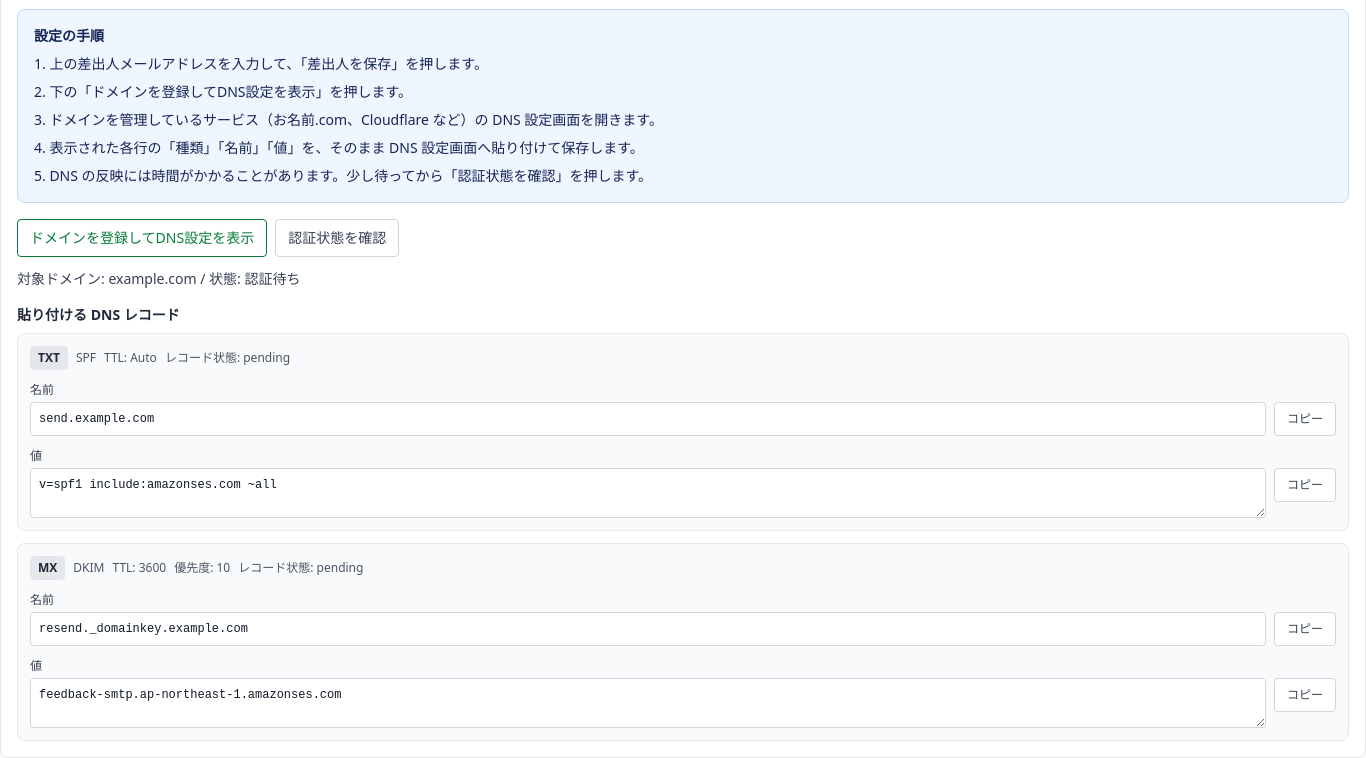
Test case: EmailSenderSettingsPanel › Clipboard APIが無い環境でもfallbackでDNS値を実コピーする
This screenshot has width=1366, height=758.
(page scrolled)
Expected: the field showing "send.example.com" below "TXT" is shown, [30,402,1266,436]
Click the button with aria-label "SPF の名前をコピー" at [1305, 419], box [1274,402,1336,436]
(page scrolled)
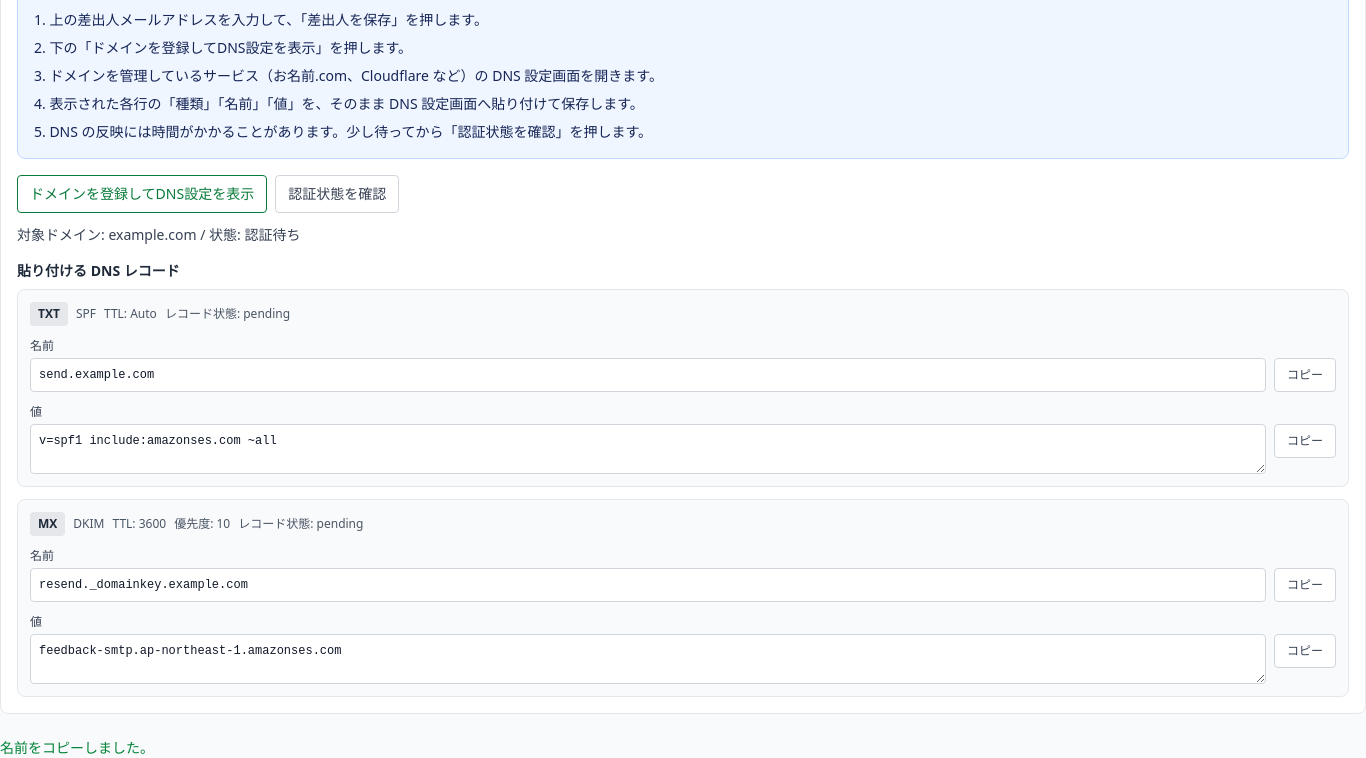
Now the message shows "名前をコピーしました", box [0,738,154,757]
